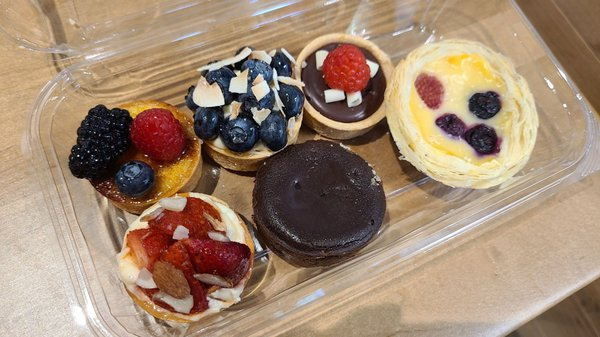curry: (0, 0, 590, 332)
salad: (381, 40, 539, 190)
sushi: (383, 39, 540, 191), (253, 138, 387, 261), (298, 34, 389, 141)
